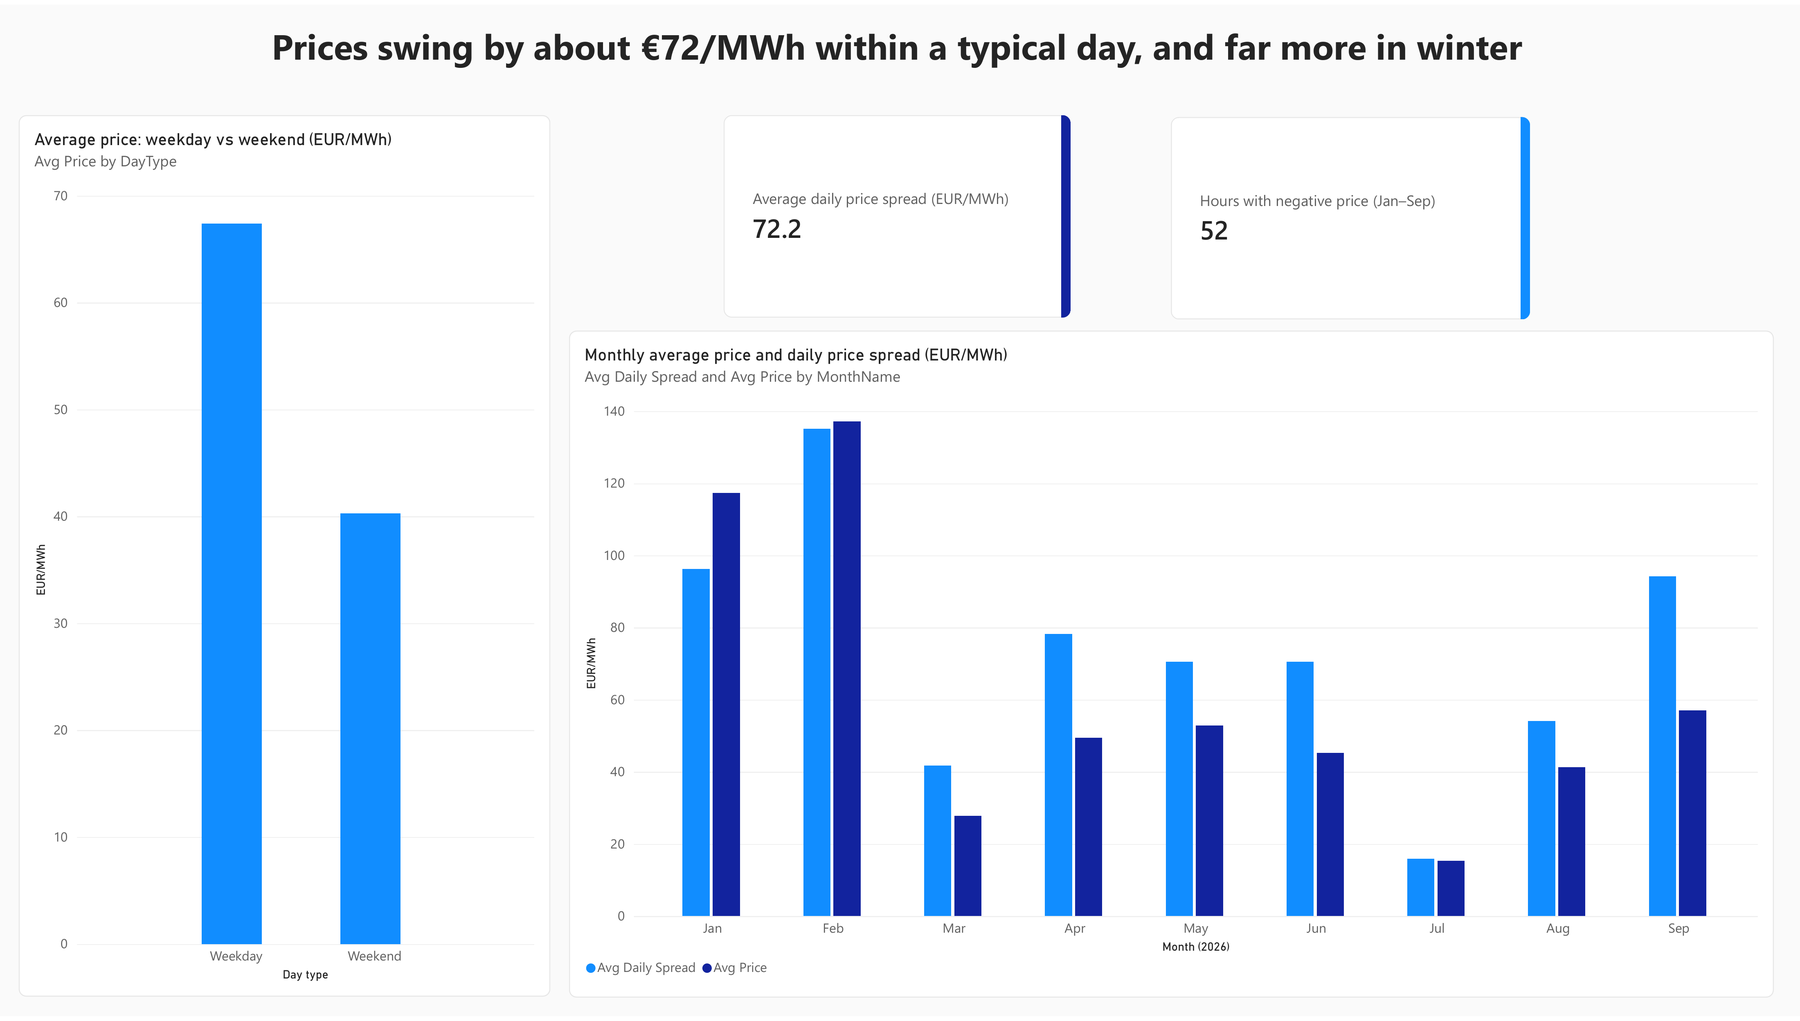

This screenshot's page, from the dashboard's own definition file:
{"tool":"powerbi","page":{"name":"How volatile is it?","canvas":[1920,1080],"ordinal":1},"visuals":[{"type":"clusteredColumnChart","title":"Monthly average price and daily price spread (EUR/MWh)","fields":{"Category":["Daily.MonthName"],"Y":["Consumption.Avg Daily Spread","Consumption.Avg Price"]},"box":[606.7,348,1284.8,711.5],"z":0},{"type":"cardVisual","fields":{"Data":["Consumption.Avg Daily Spread"]},"box":[771.8,118.2,370.3,216.4],"z":1000},{"type":"cardVisual","fields":{"Data":["Consumption.Negative Price Hours"]},"box":[1249.1,120.4,383.7,216.4],"z":2000},{"type":"clusteredColumnChart","title":"Average price: weekday vs weekend (EUR/MWh)","fields":{"Category":["Consumption.DayType"],"Y":["Consumption.Avg Price"]},"box":[20.1,118.2,566.6,941.3],"z":3000},{"type":"textbox","box":[100.3,0,1713.6,100.3],"z":4000}]}

Visuals, with their boxes in screenshot pixels (x1, y1, x2, y2), scaled from the page's 1920x1080 canvas onto the 1800x1021 screenshot:
"Monthly average price and daily price spread (EUR/MWh)" clusteredColumnChart: 569, 329, 1773, 1002
cardVisual - Consumption.Avg Daily Spread: 724, 112, 1071, 316
cardVisual - Consumption.Negative Price Hours: 1171, 114, 1531, 318
"Average price: weekday vs weekend (EUR/MWh)" clusteredColumnChart: 19, 112, 550, 1002
textbox: 94, 0, 1701, 95
